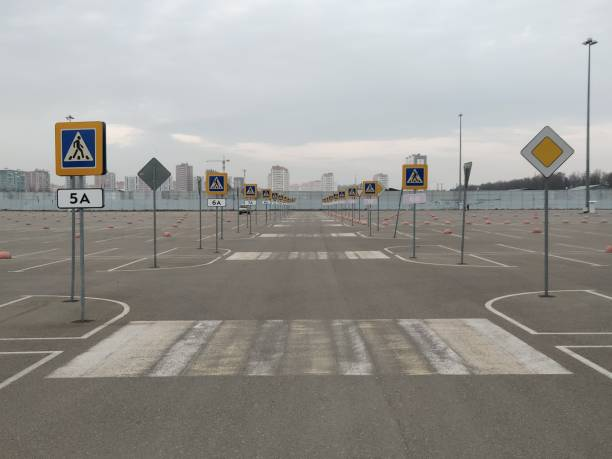yaya_gecidi: (54, 124, 109, 176)
